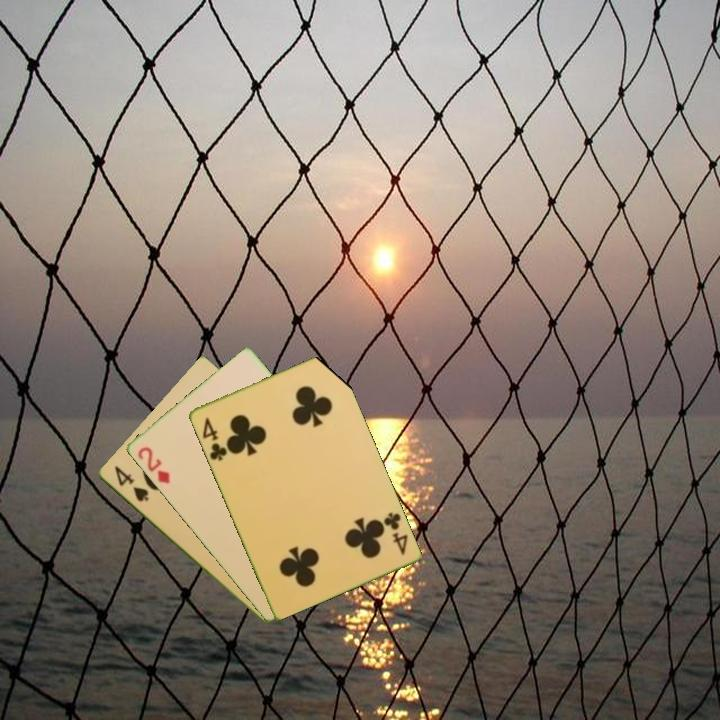2d: (134, 443, 173, 486)
4c: (198, 414, 230, 463), (379, 509, 410, 558)
4s: (110, 462, 151, 505)
